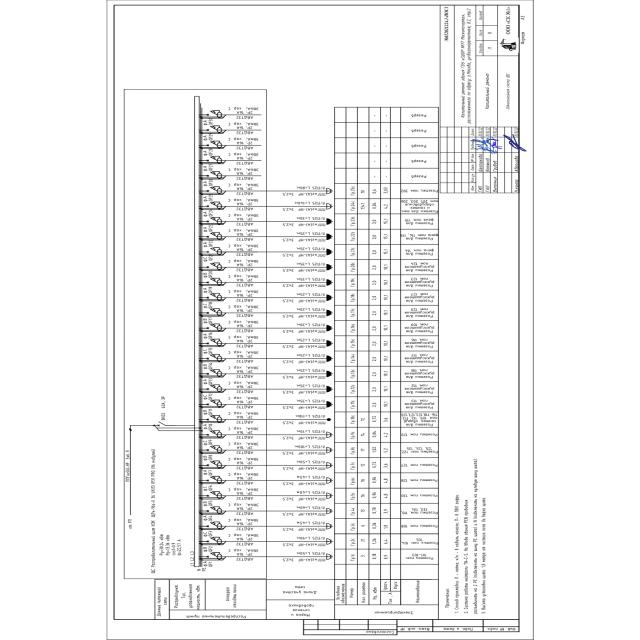-: (228, 349, 260, 364), (228, 486, 260, 501), (228, 456, 260, 471), (228, 426, 260, 441), (228, 380, 260, 394), (228, 106, 260, 120), (228, 168, 260, 182), (227, 122, 259, 136), (228, 182, 260, 196), (227, 243, 259, 257), (227, 518, 259, 532), (228, 212, 260, 226), (228, 274, 260, 288), (228, 502, 260, 516), (228, 198, 260, 212), (228, 365, 260, 379), (227, 412, 259, 426), (228, 152, 260, 166), (227, 533, 259, 547), (228, 259, 260, 273), (228, 304, 260, 318), (227, 396, 259, 410), (228, 290, 260, 304), (228, 548, 260, 562), (228, 334, 260, 348), (227, 136, 259, 150), (228, 228, 260, 242), (228, 472, 260, 486), (227, 442, 259, 456), (228, 320, 260, 334), (150, 448, 156, 518), (160, 396, 166, 422)
QFD: (204, 505, 222, 515), (204, 520, 222, 530), (204, 368, 222, 378), (204, 352, 222, 362), (204, 307, 222, 317), (204, 201, 222, 211), (206, 171, 224, 181), (205, 429, 222, 439), (205, 444, 222, 454), (206, 460, 223, 470), (206, 474, 223, 484), (206, 490, 223, 500), (206, 414, 223, 424), (205, 536, 222, 546), (206, 552, 223, 562), (205, 398, 222, 408), (206, 384, 223, 394), (205, 337, 222, 347), (205, 322, 222, 332), (205, 276, 222, 286), (205, 261, 222, 271), (205, 246, 222, 256), (205, 230, 222, 240), (206, 216, 223, 226), (206, 184, 223, 194), (205, 154, 222, 164), (206, 140, 223, 150), (205, 125, 222, 135), (205, 109, 222, 119), (205, 293, 222, 303)
QS: (156, 422, 166, 426)
